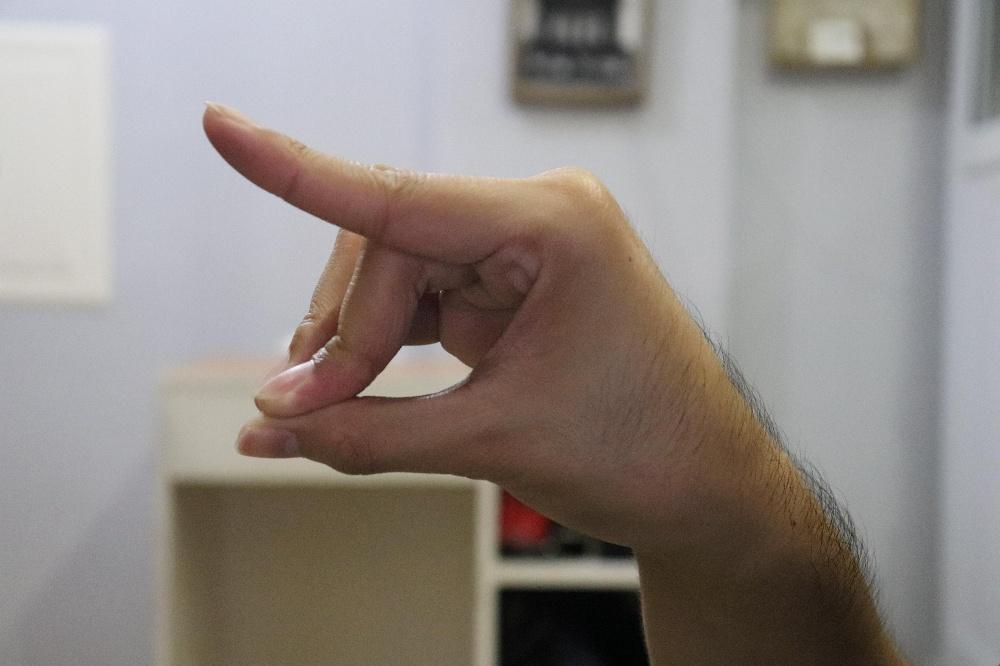d: (201, 97, 754, 548)
